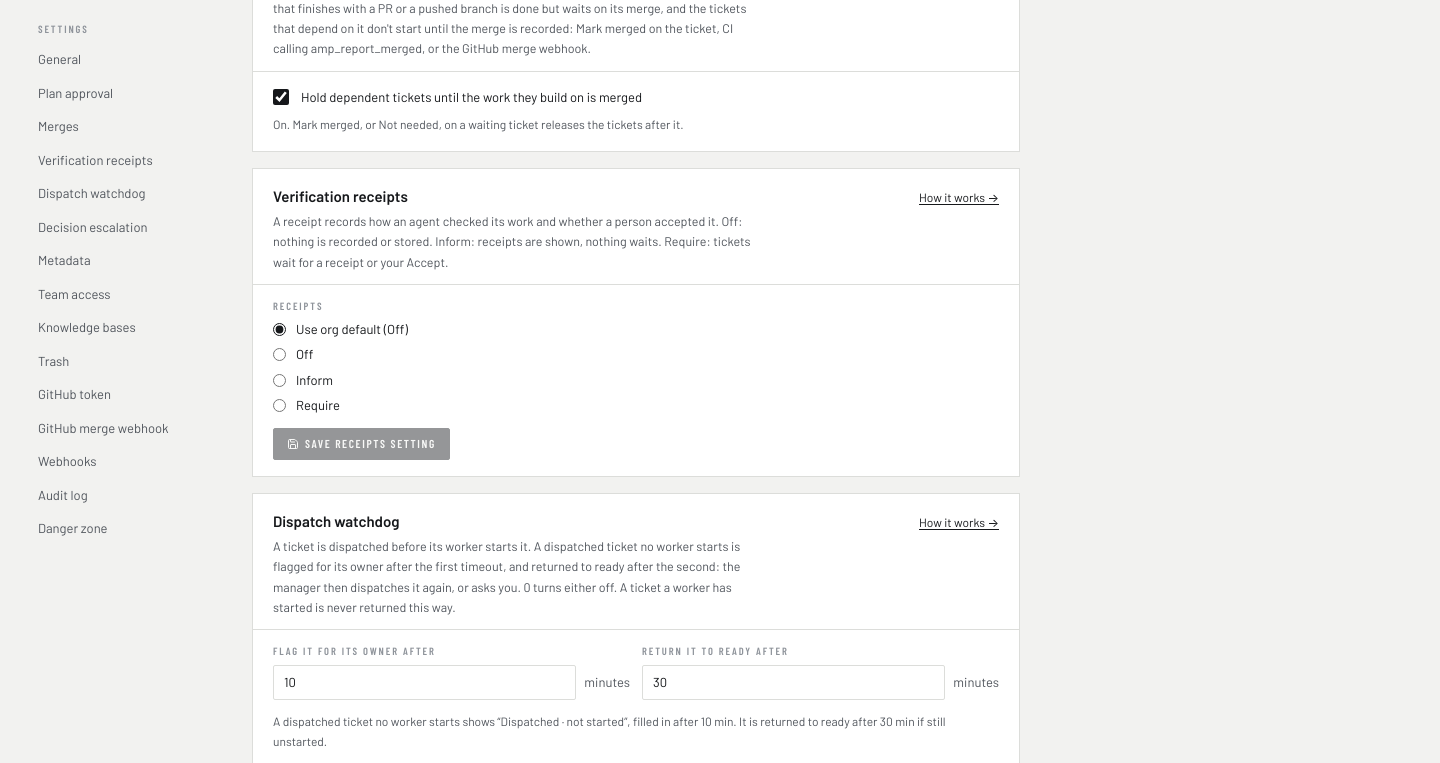
Test: ProjectSettings verification receipts (#126) › warns how many recent tickets Require would have held, before saving it
(page scrolled)
Click the radio button labelled "Require". click: (280, 406)
box: [273,399,286,412]
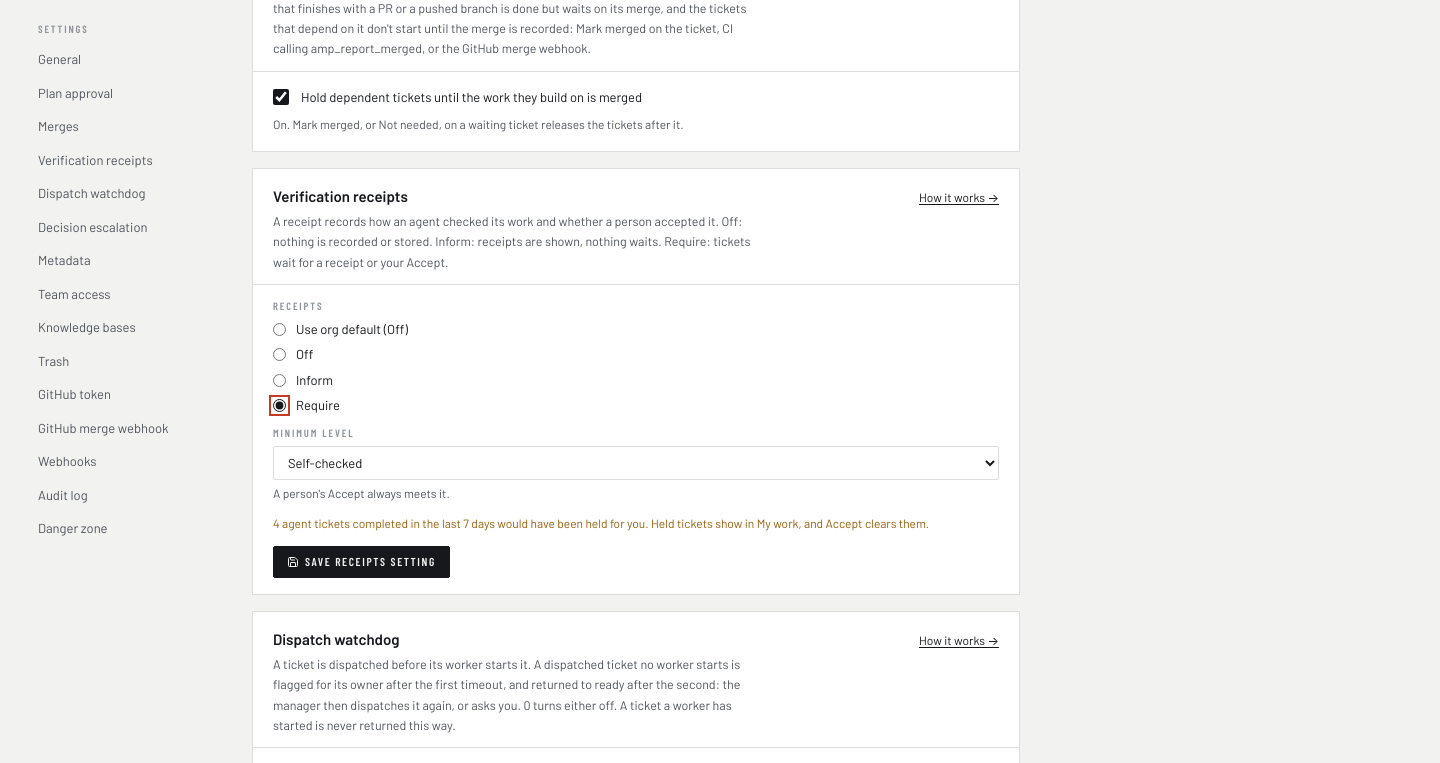
Check: the message with test id "receipts-require-warning" shows "4 agent tickets completed in the last 7 days would have been held", box [273,516,929,530]
Check: the dropdown labelled "Minimum level" shows "Self-checked", box [273,446,999,480]
